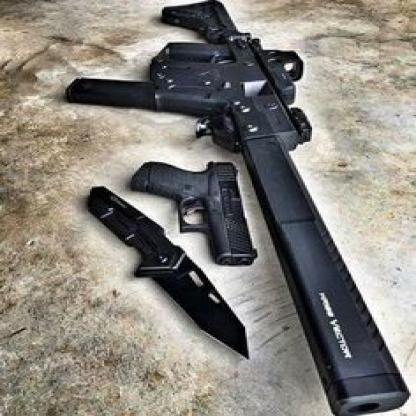Gun: (64, 0, 412, 416)
Knife: (82, 182, 253, 362)
Pistol: (128, 157, 259, 267)
